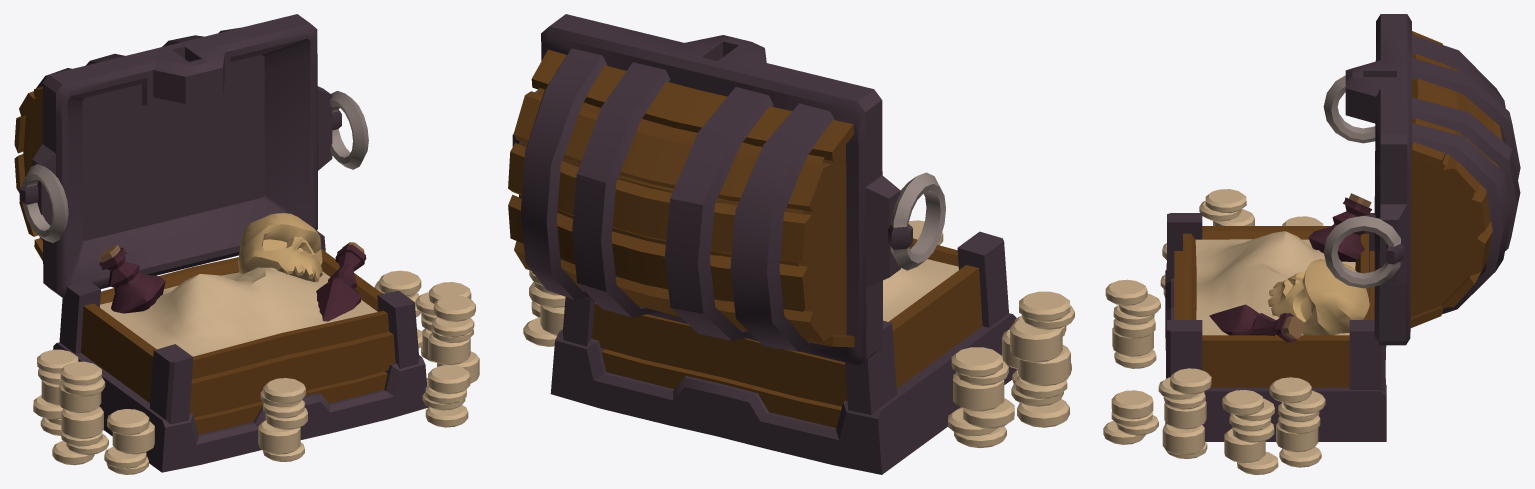
The model's file is prop-chest-gold.glb.
3 views of the same model, side by side, from view 1: azimuth 30°, elevation 25°; view 2: azimuth 150°, elevation 25°; view 3: azimuth 270°, elevation 25° (orthographic). The views are drawn at different scales.
Parts seen in each view (by area): view 1: Prop_Chest_Gold; view 2: Prop_Chest_Gold; view 3: Prop_Chest_Gold.
Boxes of the visible parts, left/top/right/bottom form: Prop_Chest_Gold: left=14, top=14, right=479, bottom=474; Prop_Chest_Gold: left=508, top=14, right=1074, bottom=474; Prop_Chest_Gold: left=1103, top=14, right=1520, bottom=474.
Bounding box in the file's own units: 1.82 × 1.29 × 1.59.
1 material, 1 textured.
